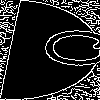Q: (25, 25, 100, 70)
